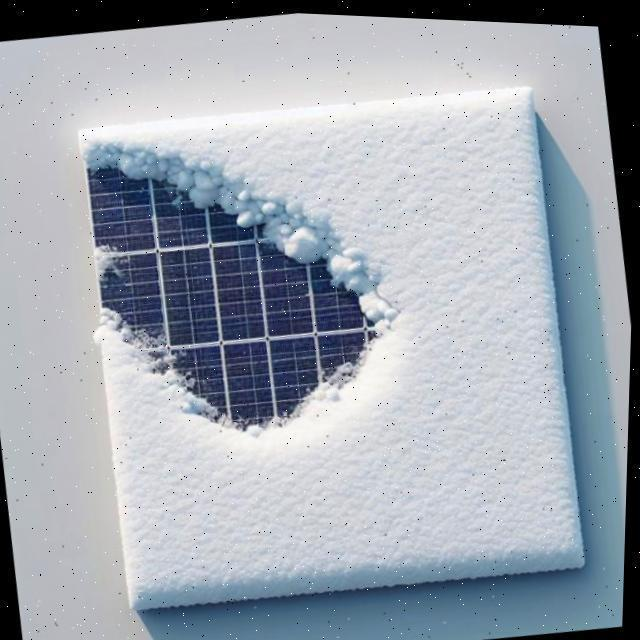Anomaly Solar Panel: (84, 82, 590, 607)
Snow: (81, 82, 590, 609)
